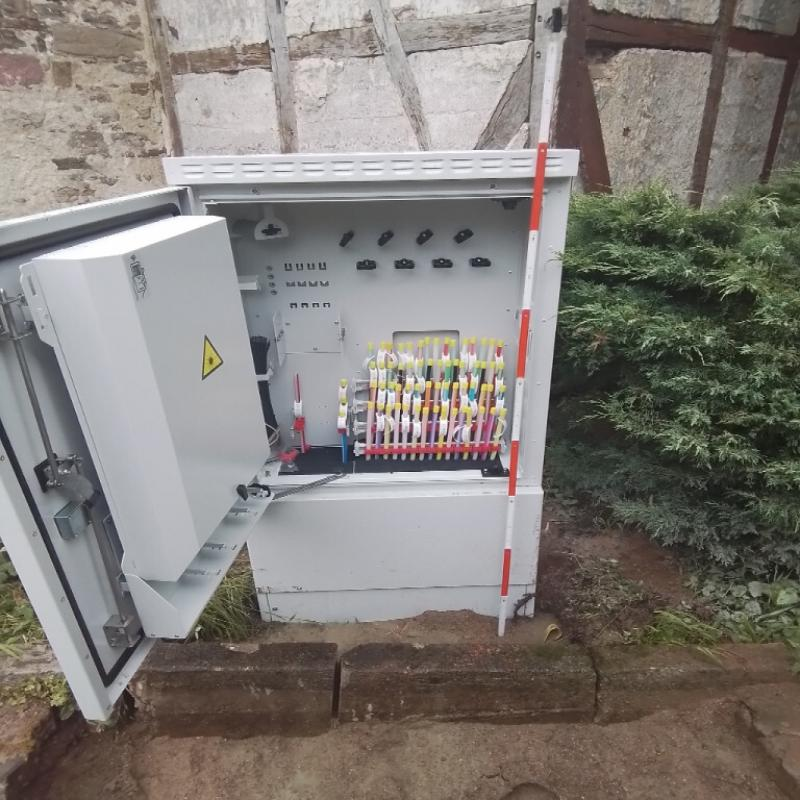NT-Gehause: (0, 152, 575, 720)
